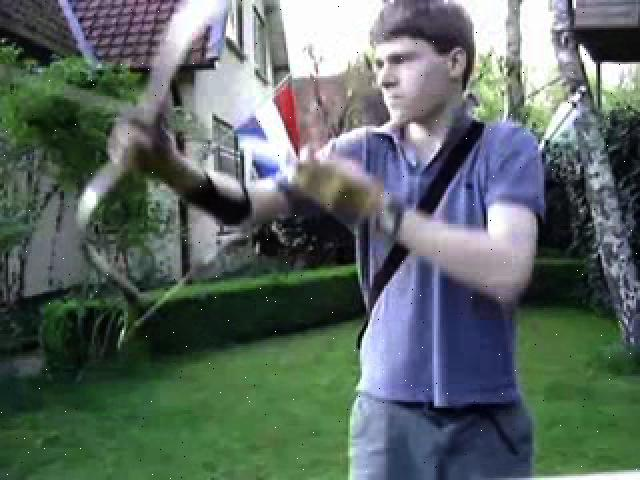P: (104, 0, 546, 478)
